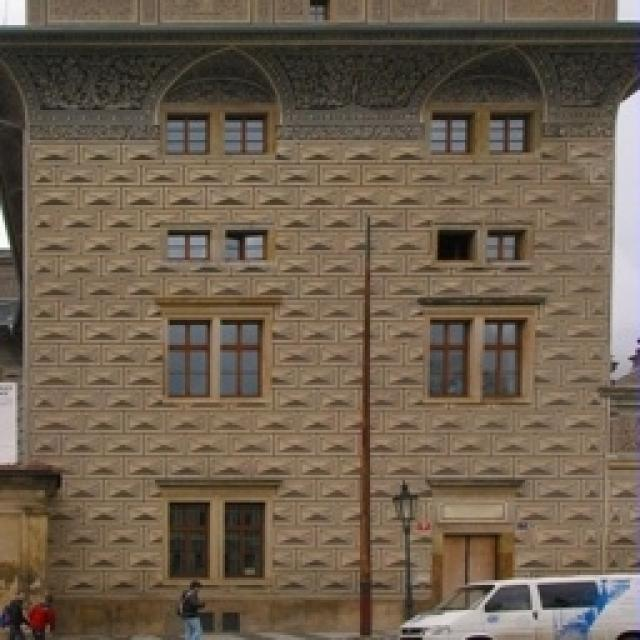Window: (220, 320, 262, 400), (170, 320, 212, 398), (170, 502, 210, 578), (225, 502, 265, 578), (430, 318, 470, 392), (488, 320, 522, 395), (170, 115, 212, 155), (430, 110, 470, 152), (225, 112, 265, 152), (488, 115, 528, 153), (485, 228, 523, 260), (168, 230, 208, 260), (228, 230, 268, 260)
